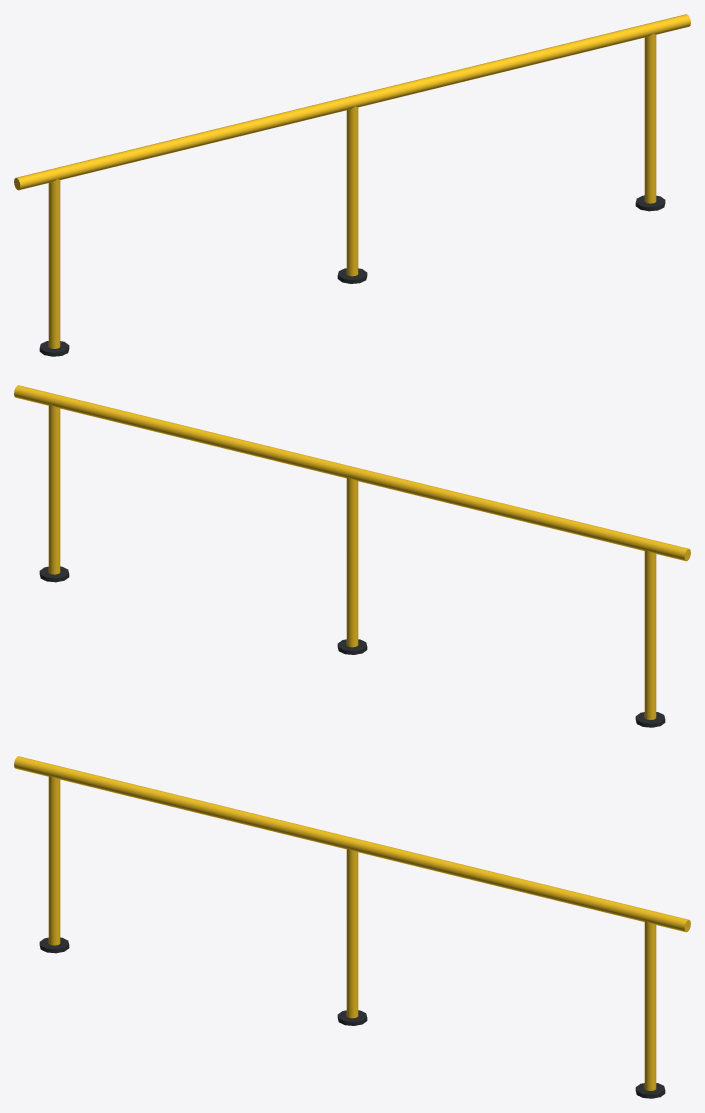
Rendered from handrail.glb.
The picture shows the model from 3 angles, top to bottom: view 1: azimuth 30°, elevation 25°; view 2: azimuth 150°, elevation 25°; view 3: azimuth 330°, elevation 25°; orthographic projection.
Parts seen in each view (by area): view 1: handrail; view 2: handrail; view 3: handrail.
Boxes of the visible parts, x1,y1,x2,y2 form: handrail: (14,14,690,356); handrail: (14,385,690,727); handrail: (14,756,690,1098).
Size of the model in its own units: 3.6 by 0.93 by 0.14.
